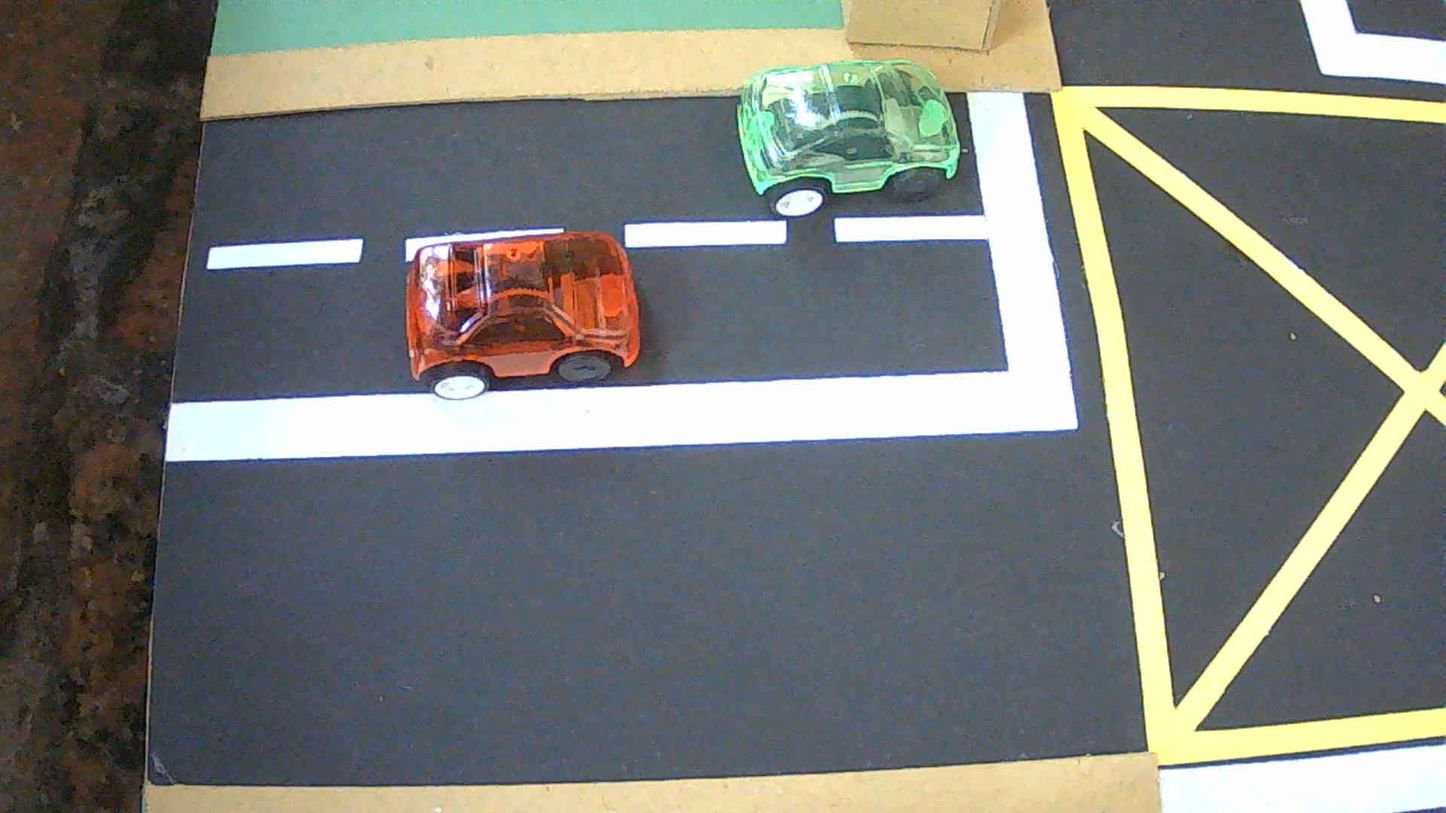Mobil hijau: (737, 59, 960, 218)
Mobil merah: (406, 233, 639, 400)
